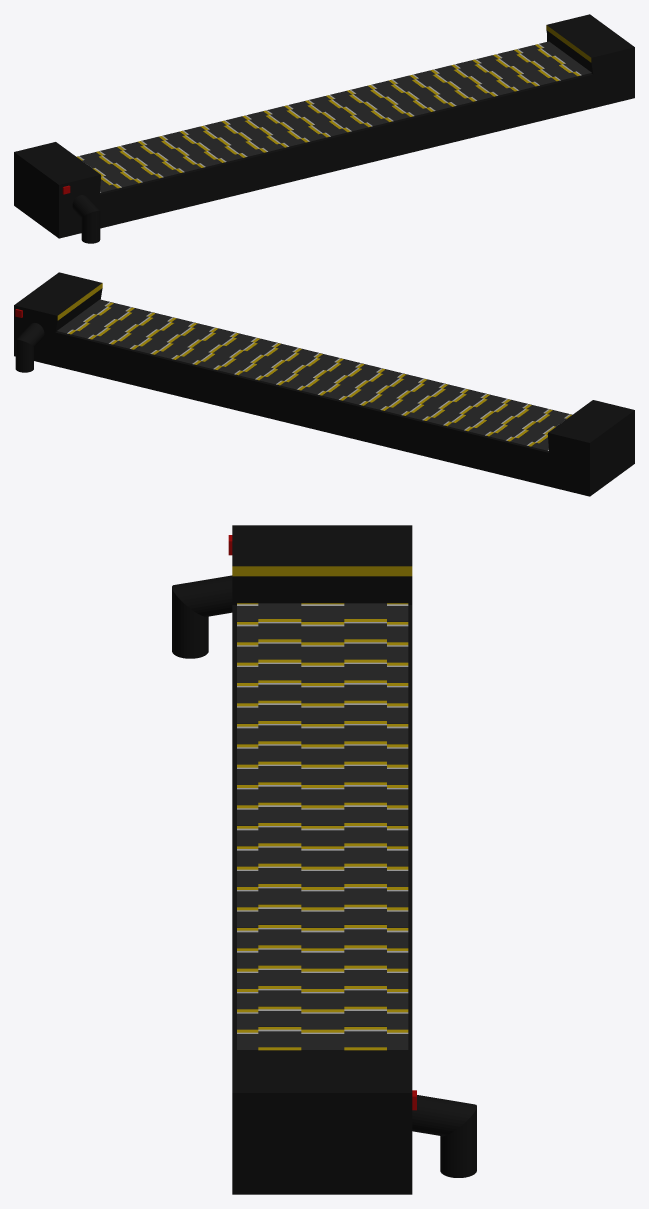
Rendered from ProductionLine.obj.
3 views of the same model, one above another, from view 1: azimuth 30°, elevation 25°; view 2: azimuth 150°, elevation 25°; view 3: azimuth 270°, elevation 25° (orthographic). The views are drawn at different scales.
Parts seen in each view (by area): view 1: Elbow_Joint, Plane.001; view 2: Elbow_Joint, Plane.001; view 3: Plane.001, Elbow_Joint.
Part boxes in pixels (<box>): Elbow_Joint: <box>14,14,634,243</box>; Plane.001: <box>76,41,591,192</box>; Elbow_Joint: <box>14,272,634,496</box>; Plane.001: <box>57,299,571,450</box>; Plane.001: <box>237,603,408,1050</box>; Elbow_Joint: <box>172,525,476,1194</box>.
Size of the model in its own units: 25.6 by 2.28 by 5.87.
